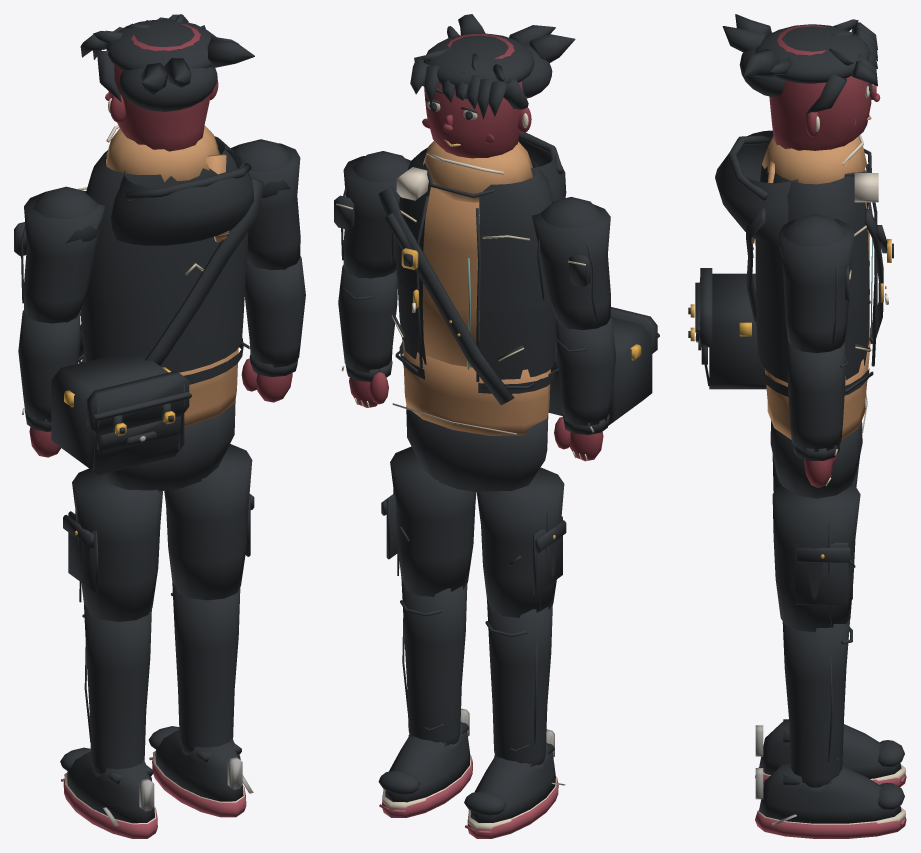
Rendered from tuku_refined_v03.glb.
The picture shows the model from 3 angles, left to right: view 1: azimuth 30°, elevation 25°; view 2: azimuth 150°, elevation 25°; view 3: azimuth 270°, elevation 25°; orthographic projection. The views are drawn at different scales.
Visible parts, largest first — view 1: Torso_Chest, LeftLeg_Thigh, RightLeg_Thigh, LeftLeg_Calf, RightLeg_Calf, Torso_JacketLower, TorsoRoot__Refinement, Satchel_Body, RightArm_Upper, Head_HairCrown, LeftArm_Forearm, Torso_Pelvis (+22 smaller); view 2: Torso_Chest, LeftLeg_Thigh, RightLeg_Thigh, LeftLeg_Calf, RightLeg_Calf, Torso_Pelvis, Torso_ShirtHem, Torso_ShirtFront, RightArm_Upper, Torso_JacketLower, RightArm_Forearm, LeftArm_Forearm (+26 smaller); view 3: LeftLeg_Calf, LeftLeg_Thigh, LeftArm_Upper, TorsoRoot__Refinement, Torso_Chest, Head_Face, LeftArm_Forearm, LeftLeg_ShoeUpper, Satchel_Body, Head_HairCrown, Torso_JacketLower, Torso_Pelvis (+19 smaller).
Part boxes in pixels (left/top/right/bottom): Torso_Chest: left=85, top=136, right=248, bottom=306; LeftLeg_Thigh: left=164, top=444, right=252, bottom=600; RightLeg_Thigh: left=72, top=468, right=162, bottom=621; LeftLeg_Calf: left=172, top=582, right=240, bottom=752; RightLeg_Calf: left=84, top=604, right=151, bottom=774; Torso_JacketLower: left=80, top=271, right=245, bottom=372; TorsoRoot__Refinement: left=78, top=147, right=254, bottom=363; Satchel_Body: left=51, top=354, right=184, bottom=474; RightArm_Upper: left=23, top=190, right=104, bottom=323; Head_HairCrown: left=106, top=19, right=217, bottom=111; LeftArm_Forearm: left=244, top=256, right=305, bottom=367; Torso_Pelvis: left=102, top=400, right=235, bottom=491; Torso_Chest: left=395, top=147, right=553, bottom=312; LeftLeg_Thigh: left=390, top=446, right=476, bottom=596; RightLeg_Thigh: left=476, top=467, right=564, bottom=617; LeftLeg_Calf: left=401, top=577, right=467, bottom=745; RightLeg_Calf: left=487, top=598, right=552, bottom=766; Torso_Pelvis: left=406, top=405, right=548, bottom=492; Torso_ShirtHem: left=402, top=339, right=550, bottom=435; Torso_ShirtFront: left=422, top=187, right=479, bottom=367; RightArm_Upper: left=532, top=201, right=610, bottom=329; Torso_JacketLower: left=397, top=276, right=556, bottom=379; RightArm_Forearm: left=556, top=317, right=616, bottom=425; LeftArm_Forearm: left=338, top=265, right=397, bottom=372; LeftLeg_Calf: left=782, top=619, right=850, bottom=787; LeftLeg_Thigh: left=772, top=483, right=860, bottom=632; LeftArm_Upper: left=778, top=218, right=854, bottom=352; TorsoRoot__Refinement: left=715, top=130, right=893, bottom=432; Torso_Chest: left=755, top=165, right=869, bottom=312; Head_Face: left=769, top=25, right=871, bottom=150; LeftArm_Forearm: left=787, top=342, right=845, bottom=451; LeftLeg_ShoeUpper: left=759, top=761, right=901, bottom=823; Satchel_Body: left=709, top=273, right=766, bottom=389; Head_HairCrown: left=739, top=24, right=870, bottom=97; Torso_JacketLower: left=756, top=282, right=869, bottom=382; Torso_Pelvis: left=770, top=421, right=862, bottom=498.
Size of the model in its own units: 0.634 by 1.68 by 0.4315.
Materials: 1 (1 with a texture image).
